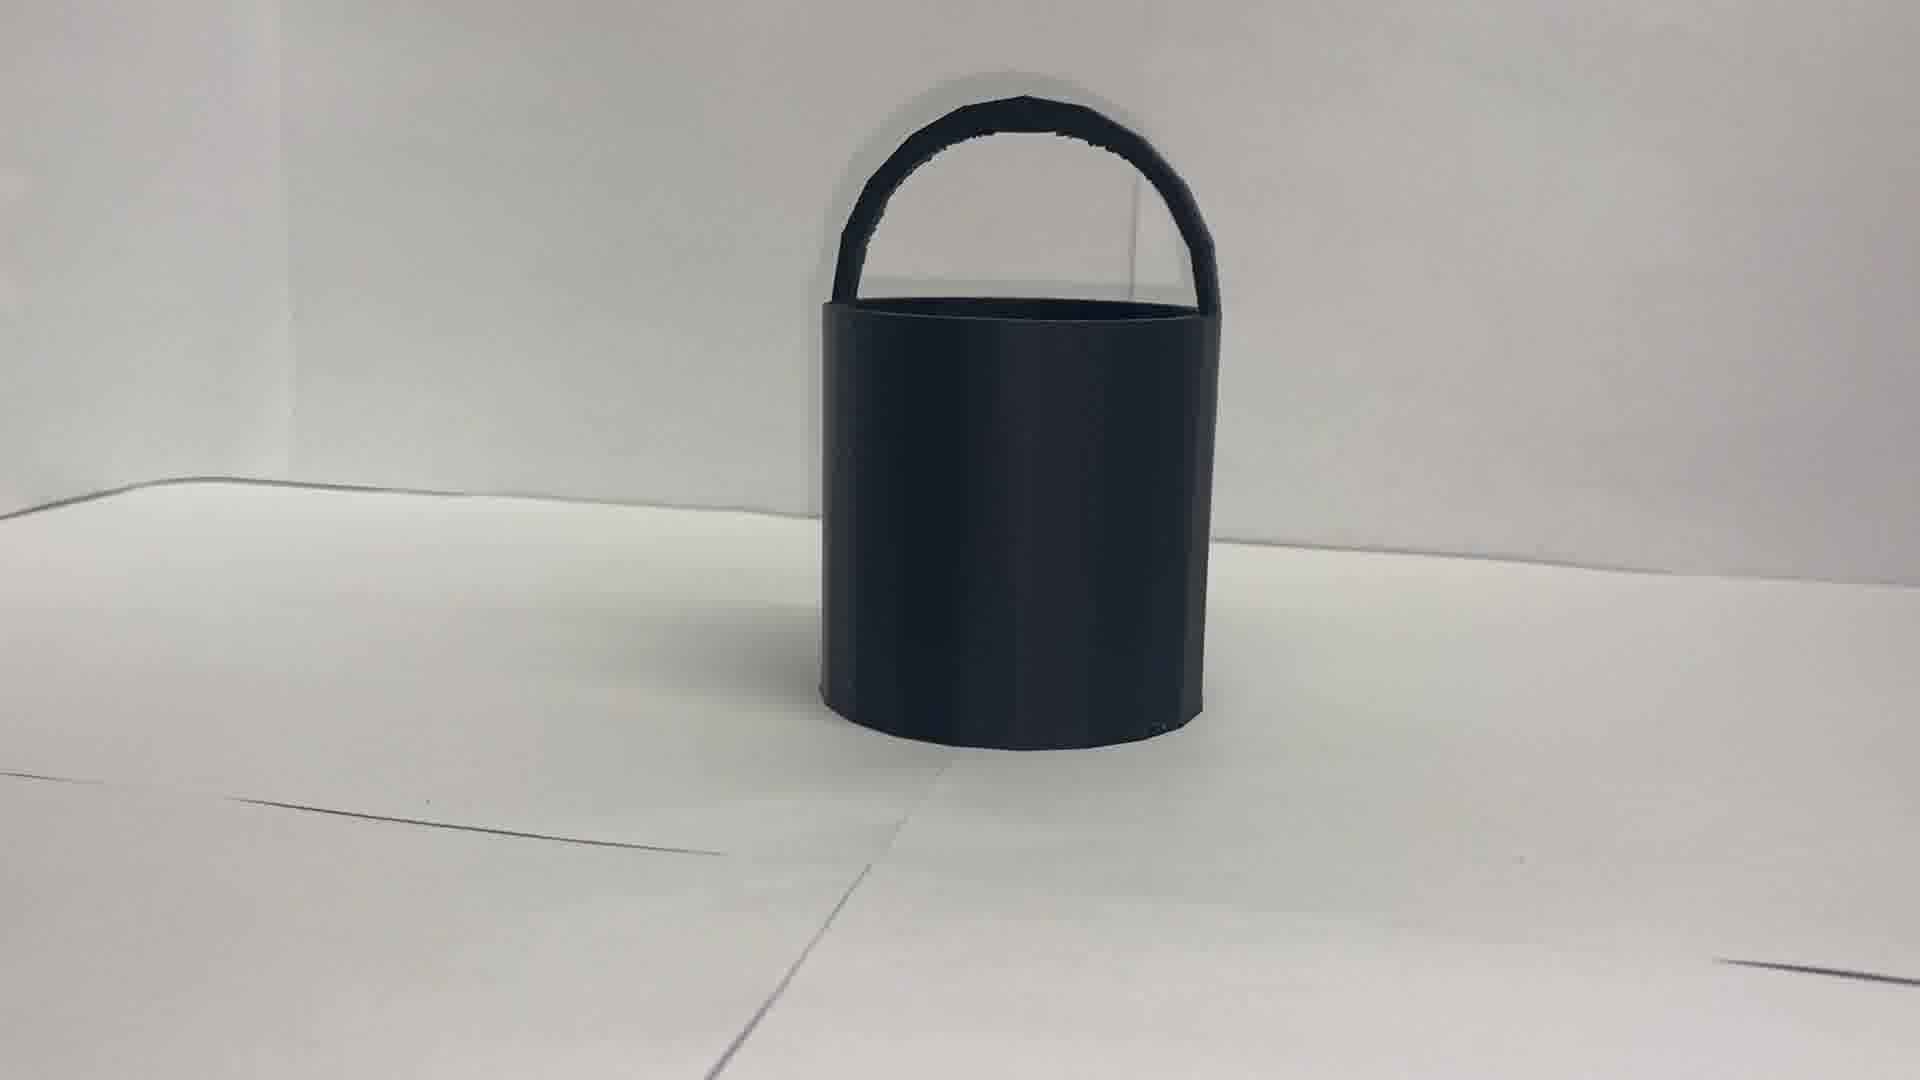bag: (803, 84, 1230, 761)
